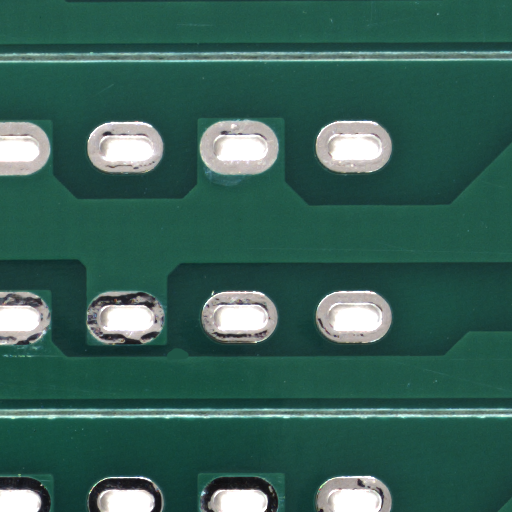Spur: (177, 352, 201, 363)
